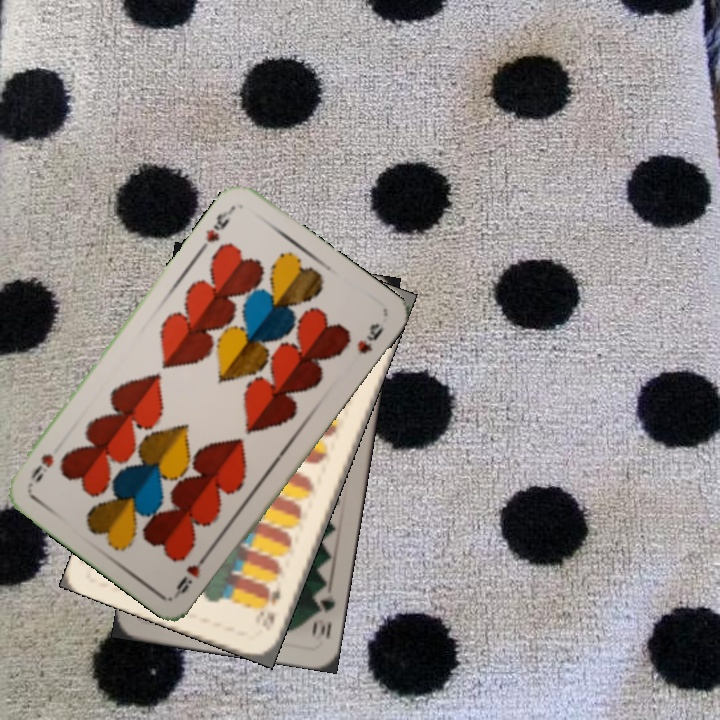E10: (262, 577, 284, 627)
G10: (307, 595, 338, 644)
H9: (171, 547, 213, 598), (195, 203, 237, 254)
